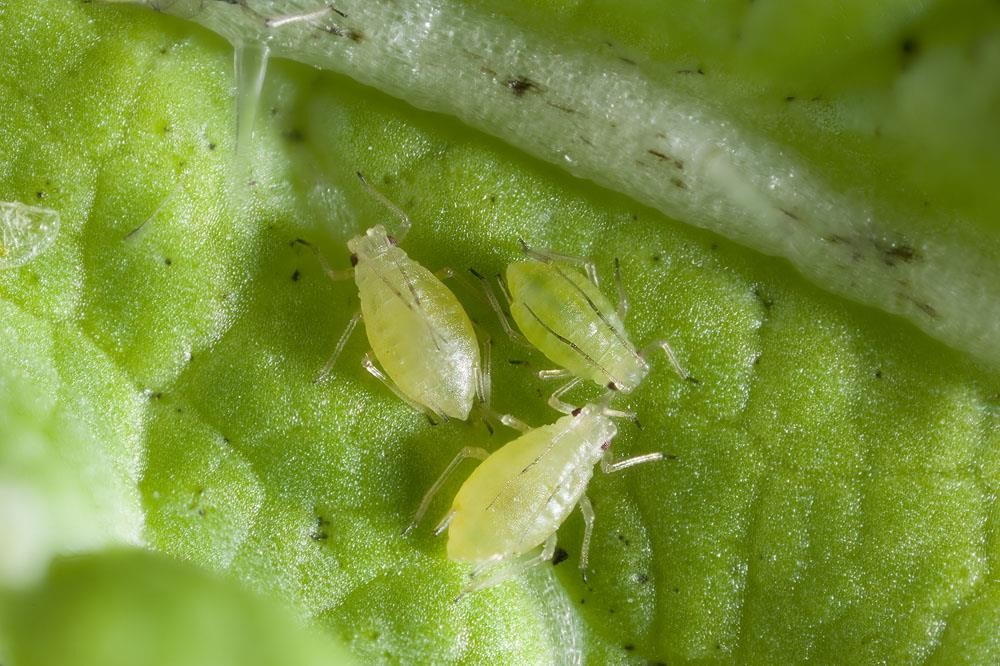Pulgon: (412, 370, 659, 597), (475, 217, 711, 422), (323, 203, 514, 428)
